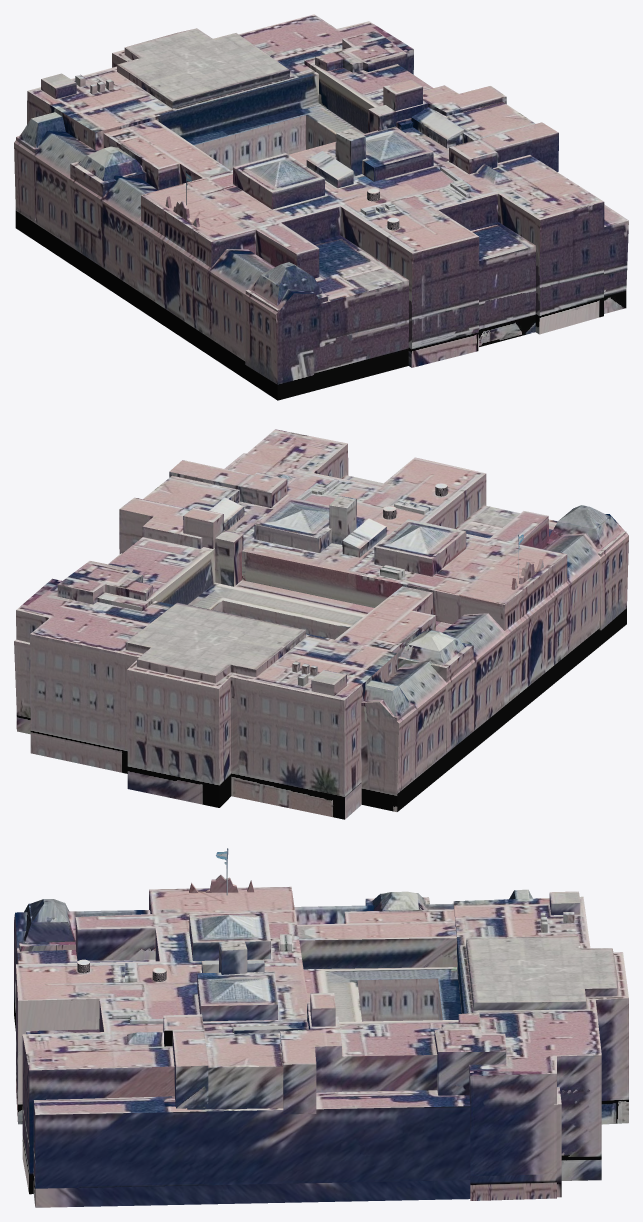
Rendered from SoloRosa.glb.
3 renders of one model, top to bottom at view 1: azimuth 30°, elevation 25°; view 2: azimuth 150°, elevation 25°; view 3: azimuth 270°, elevation 25°, orthographic. The views are drawn at different scales.
Parts seen in each view (by area): view 1: y_up_convert_n3d; view 2: y_up_convert_n3d; view 3: y_up_convert_n3d.
Part boxes in pixels (x1,y1,x2,y2): y_up_convert_n3d: (14,14,628,400); y_up_convert_n3d: (14,429,628,819); y_up_convert_n3d: (14,848,628,1207).
Size of the model in its own units: 84.66 by 33.71 by 108.
Materials: 7 (7 with a texture image).
